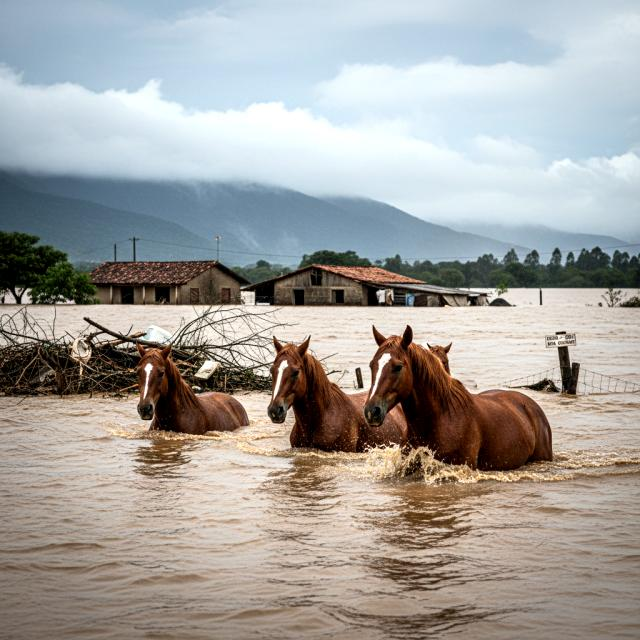horse: (360, 329, 566, 489), (260, 335, 414, 472), (125, 342, 256, 446)
